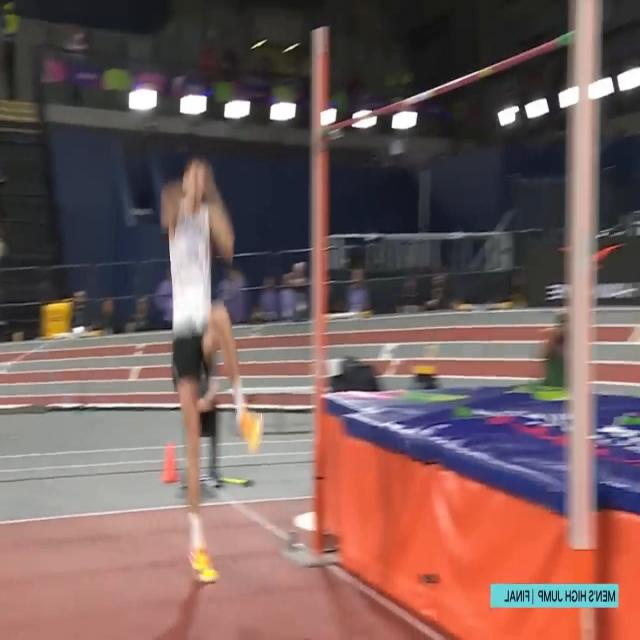jump: (162, 152, 262, 585)
